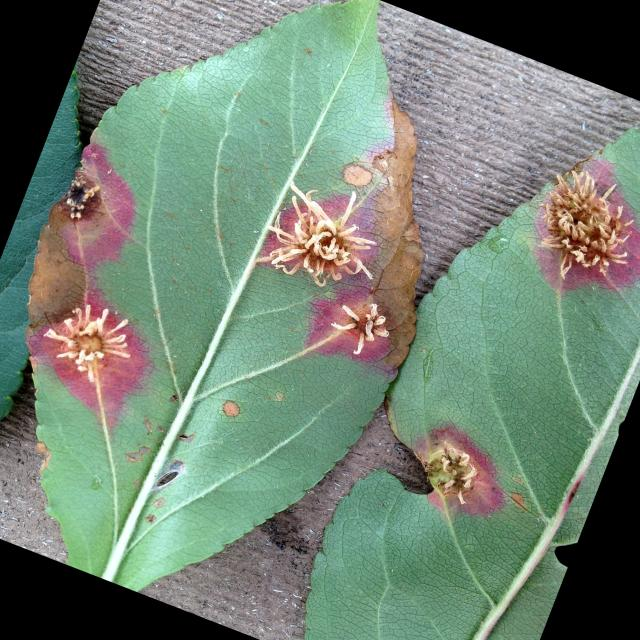Gymnosporangium_Rusts: (24, 33, 595, 554)
